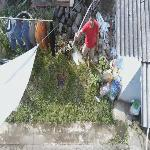Pedang: (70, 1, 96, 51)
